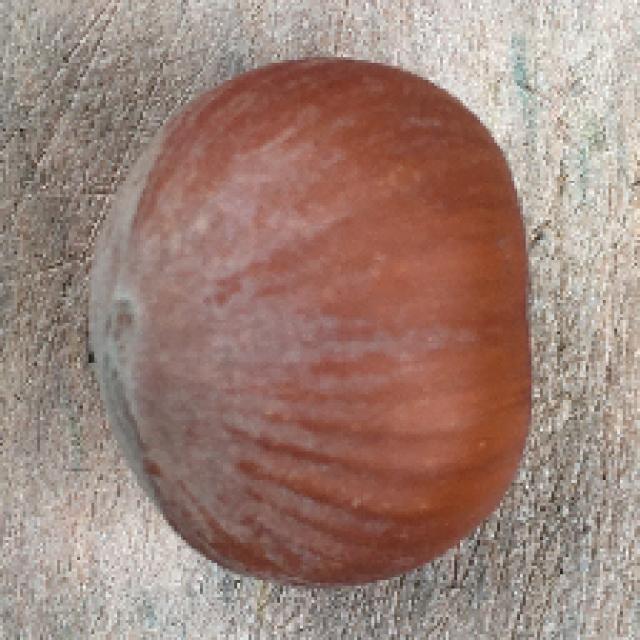qualityHazelnut: (75, 44, 542, 584)
